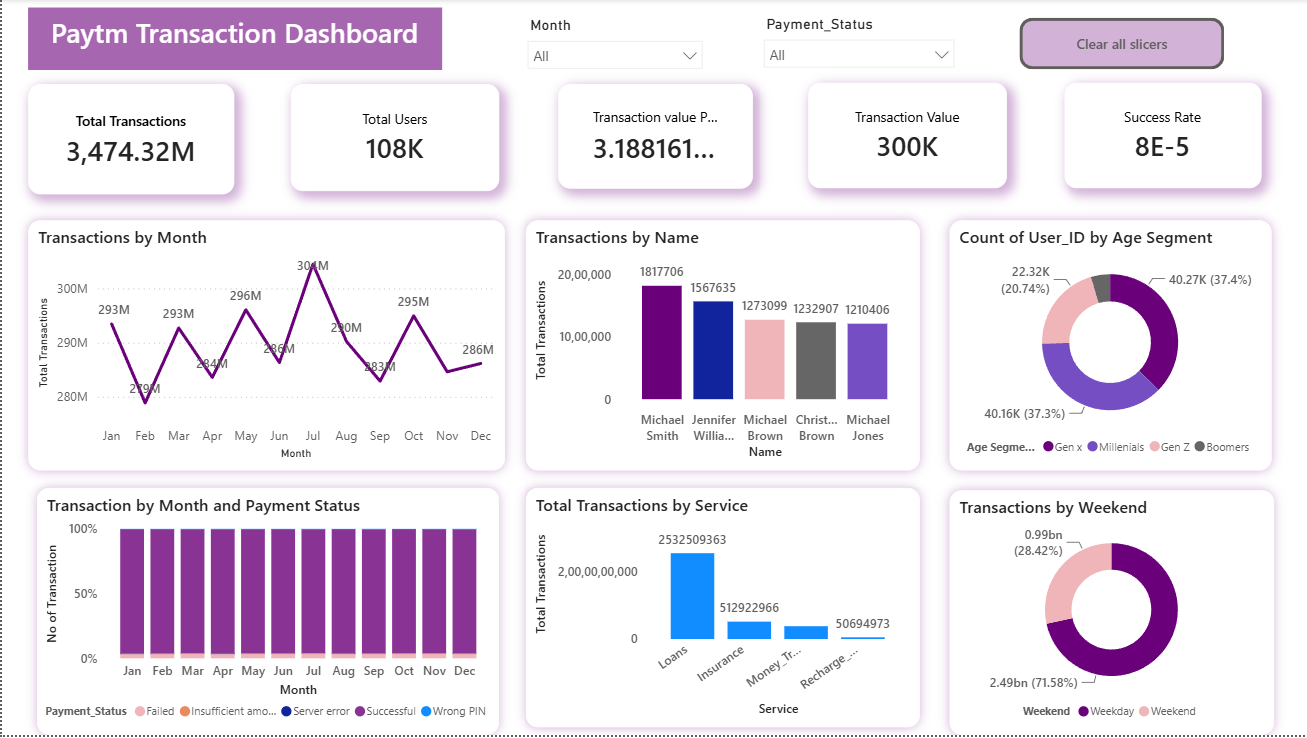

Layout of this report page (visuals, bound fields, positions):
{"tool":"powerbi","page":{"name":"Page 1","canvas":[1280,720],"ordinal":0},"visuals":[{"type":"cardVisual","fields":{"Data":["Measures (2).Total Transactions"]},"box":[25.2,83.2,201.6,108.4],"z":0},{"type":"cardVisual","fields":{"Data":["Measures (2).NO of Transaction"]},"box":[788.8,81.9,194.1,103.3],"z":1000},{"type":"cardVisual","fields":{"Data":["Measures (2).Success Rate"]},"box":[1039.6,81.9,192.8,103.3],"z":2000},{"type":"cardVisual","fields":{"Data":["Measures (2).Total Users"]},"box":[282.3,83.2,204.1,104.6],"z":3000},{"type":"slicer","fields":{"Values":["Date_Table.Month"]},"box":[504,12.6,191.5,58],"z":4000},{"type":"cardVisual","fields":{"Data":["Measures (2).Transaction value Previous month"]},"box":[544.4,83.2,190.3,102.1],"z":5000},{"type":"lineChart","title":"Transactions by Month","fields":{"Category":["Date_Table.Month"],"Y":["Measures (2).Total Transactions"]},"box":[25.2,216.7,466.2,244.5],"z":5001},{"type":"columnChart","fields":{"Category":["All_Transactions.Service"],"Y":["Measures (2).Total Transactions"]},"box":[512.9,477.6,385.6,234.4],"z":5002},{"type":"hundredPercentStackedColumnChart","title":"Transaction by Month and Payment Status","fields":{"Category":["Date_Table.Month"],"Y":["Measures (2).NO of Transaction"],"Series":["All_Transactions.Payment_Status"]},"box":[34,477.6,452.4,241.9],"z":5003},{"type":"donutChart","fields":{"Category":["All_Users.Age Segment"],"Y":["CountNonNull(All_Users.User_ID)"]},"box":[927.4,216.7,315,244.5],"z":5004},{"type":"donutChart","title":"Transactions by Weekend","fields":{"Category":["Date_Table.Weekend"],"Y":["Measures (2).Total Transactions"]},"box":[927.4,480.1,317.5,239.4],"z":5005},{"type":"columnChart","title":" Transactions by Name","fields":{"Category":["All_Users.Name"],"Y":["Measures (2).Total Transactions"]},"box":[512.9,216.7,385.6,244.5],"z":5006},{"type":"textbox","box":[25.2,8.8,404.5,60.5],"z":5007},{"type":"actionButton","box":[995.5,18.9,200.4,50.4],"z":5008},{"type":"slicer","fields":{"Values":["All_Transactions.Payment_Status"]},"box":[734.6,11.3,206.7,59.2],"z":5009}]}

Visuals, with their boxes in screenshot pixels (x1, y1, x2, y2), scaled from the page's 1280x720 canvas onto the 1307x738 screenshot:
cardVisual - Measures (2).Total Transactions: BBox(26, 85, 232, 196)
cardVisual - Measures (2).NO of Transaction: BBox(805, 84, 1004, 190)
cardVisual - Measures (2).Success Rate: BBox(1062, 84, 1258, 190)
cardVisual - Measures (2).Total Users: BBox(288, 85, 497, 192)
slicer - Date_Table.Month: BBox(515, 13, 710, 72)
cardVisual - Measures (2).Transaction value Previous month: BBox(556, 85, 750, 190)
"Transactions by Month" lineChart: BBox(26, 222, 502, 473)
columnChart - All_Transactions.Service x Measures (2).Total Transactions: BBox(524, 490, 917, 730)
"Transaction by Month and Payment Status" hundredPercentStackedColumnChart: BBox(35, 490, 497, 737)
donutChart - All_Users.Age Segment x CountNonNull(All_Users.User_ID): BBox(947, 222, 1269, 473)
"Transactions by Weekend" donutChart: BBox(947, 492, 1271, 737)
" Transactions by Name" columnChart: BBox(524, 222, 917, 473)
textbox: BBox(26, 9, 439, 71)
actionButton: BBox(1016, 19, 1221, 71)
slicer - All_Transactions.Payment_Status: BBox(750, 12, 961, 72)
